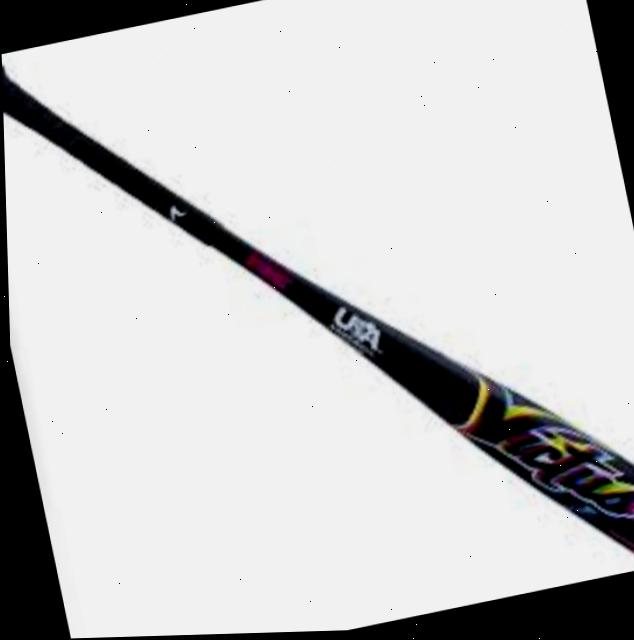baseball bat: (2, 68, 634, 567)
